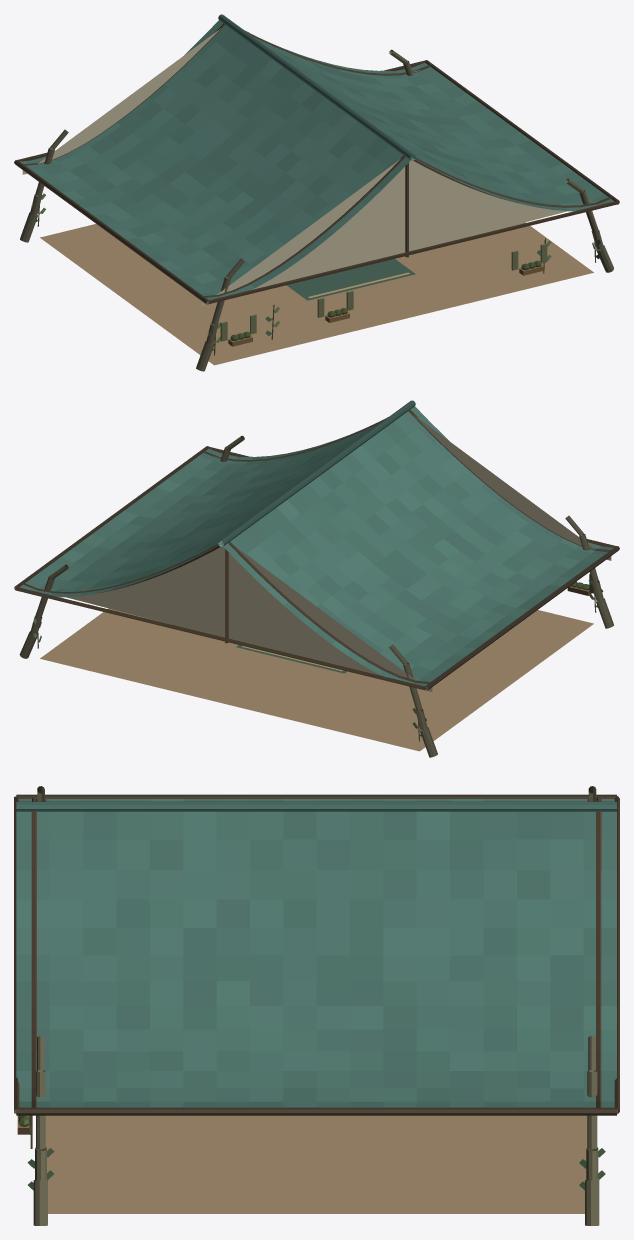
3 views of the same model, one above another, from view 1: azimuth 30°, elevation 25°; view 2: azimuth 150°, elevation 25°; view 3: azimuth 270°, elevation 25° (orthographic). The views are drawn at different scales.
Visible parts, largest first — view 1: 31e35c480e3ff53c05eab4e0a37b8ed557d26fc81b40067c5fadf31dc23f; view 2: 31e35c480e3ff53c05eab4e0a37b8ed557d26fc81b40067c5fadf31dc23f; view 3: 31e35c480e3ff53c05eab4e0a37b8ed557d26fc81b40067c5fadf31dc23f.
Boxes of the visible parts, x1,y1,x2,y2 form: 31e35c480e3ff53c05eab4e0a37b8ed557d26fc81b40067c5fadf31dc23f: (14, 14, 619, 371); 31e35c480e3ff53c05eab4e0a37b8ed557d26fc81b40067c5fadf31dc23f: (14, 400, 619, 757); 31e35c480e3ff53c05eab4e0a37b8ed557d26fc81b40067c5fadf31dc23f: (14, 786, 619, 1225).
Size of the model in its own units: 16.13 by 6.37 by 12.97.
Materials: 6 (1 with a texture image).
